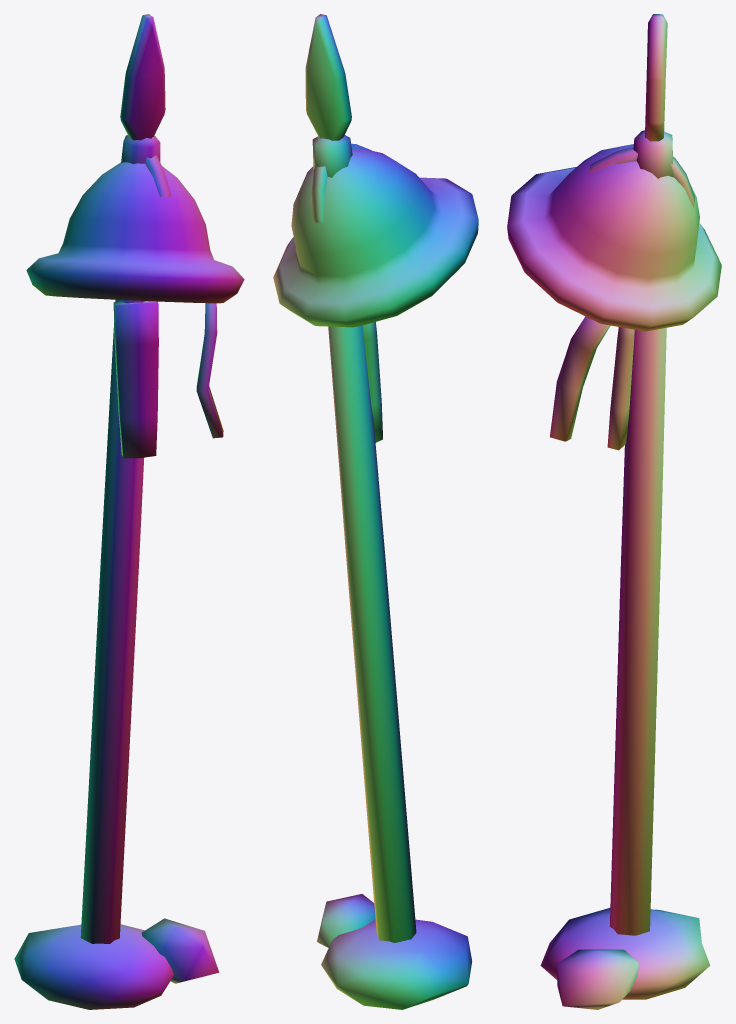
Rendered from SM_Prop_March_HelmetStake_A.fbx.
The picture shows the model from 3 angles, left to right: view 1: azimuth 30°, elevation 25°; view 2: azimuth 150°, elevation 25°; view 3: azimuth 270°, elevation 25°; orthographic projection. The views are drawn at different scales.
Parts seen in each view (by area): view 1: SM_Prop_March_HelmetStake_A; view 2: SM_Prop_March_HelmetStake_A; view 3: SM_Prop_March_HelmetStake_A.
Boxes of the visible parts, box(x1,y1,x2,y2) form: SM_Prop_March_HelmetStake_A: box(14, 14, 244, 1009); SM_Prop_March_HelmetStake_A: box(273, 14, 478, 1009); SM_Prop_March_HelmetStake_A: box(507, 14, 721, 1009).
Bounding box in the file's own units: 0.4361 × 2.07 × 0.3972.
